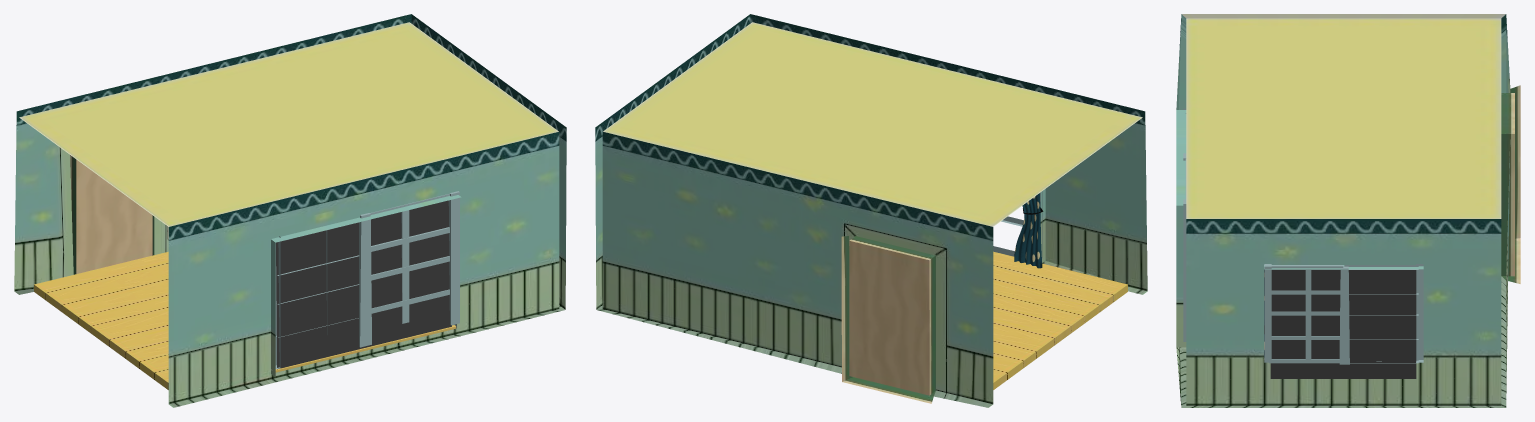
The model's file is room.glb.
3 renders of one model, left to right at view 1: azimuth 30°, elevation 25°; view 2: azimuth 150°, elevation 25°; view 3: azimuth 270°, elevation 25°, orthographic. The views are drawn at different scales.
Parts seen in each view (by area): view 1: mesh:lambert20SG, mesh:blinn12SG, mesh:lambert8SG, mesh:lambert19SG; view 2: mesh:lambert20SG, mesh:lambert8SG, mesh:lambert13SG; view 3: mesh:lambert20SG, mesh:blinn12SG, mesh:lambert19SG.
Part boxes in pixels (x1,y1,x2,y2): mesh:lambert20SG: (14,14,566,407); mesh:blinn12SG: (276,200,451,369); mesh:lambert8SG: (34,251,456,389); mesh:lambert19SG: (271,191,459,371); mesh:lambert20SG: (595,14,1147,407); mesh:lambert8SG: (993,251,1127,389); mesh:lambert13SG: (1014,193,1042,268); mesh:lambert20SG: (1176,14,1520,407); mesh:blinn12SG: (1270,270,1416,378); mesh:lambert19SG: (1183,108,1423,364).
Size of the model in its own units: 22.81 by 10.28 by 16.21.
36 materials, 15 textured.
